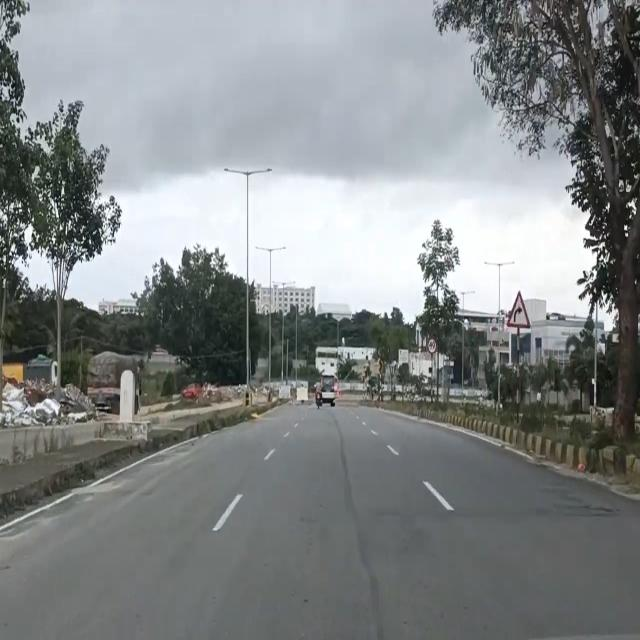bien_cam: (506, 288, 532, 331), (427, 337, 438, 353)
